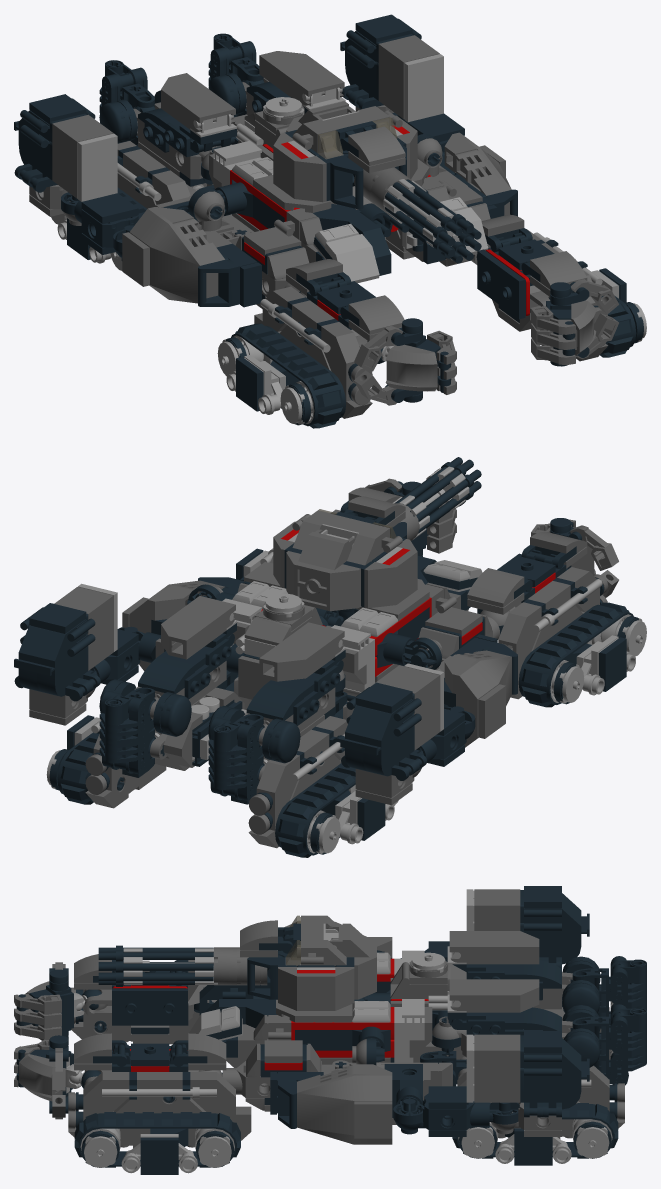
Rendered from th-nx-02-siegemaster-tank.dae.
3 renders of one model, top to bottom at view 1: azimuth 30°, elevation 25°; view 2: azimuth 150°, elevation 25°; view 3: azimuth 270°, elevation 25°, orthographic. The views are drawn at different scales.
Bounding box in the file's own units: 432 × 664 × 206.
